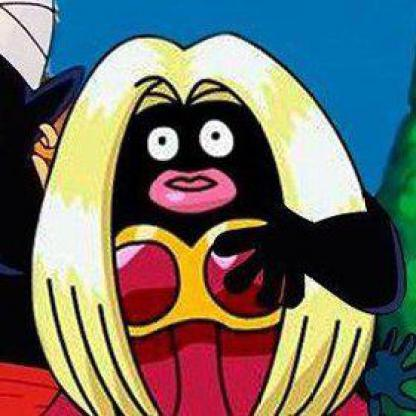Jynx: (1, 1, 405, 414)
